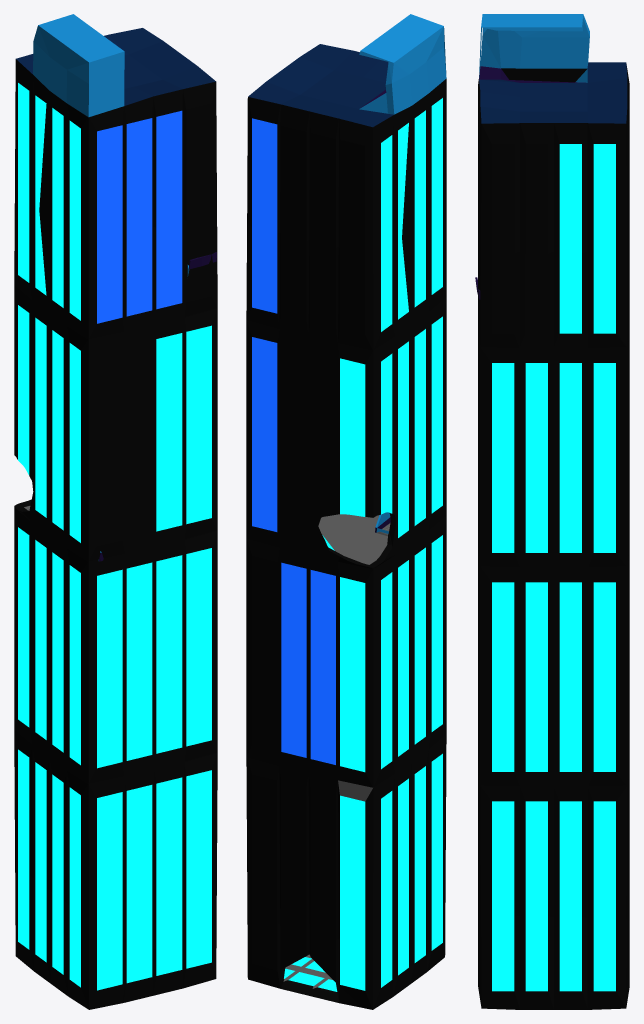
File: startingBuilding2.fbx
The picture shows the model from 3 angles, left to right: view 1: azimuth 30°, elevation 25°; view 2: azimuth 150°, elevation 25°; view 3: azimuth 270°, elevation 25°; orthographic projection.
Visible parts, largest first — view 1: Plane.005; view 2: Plane.005; view 3: Plane.005.
Boxes of the visible parts, x1=… form: Plane.005: x1=14, y1=14, x2=217, y2=1009; Plane.005: x1=246, y1=14, x2=446, y2=1009; Plane.005: x1=475, y1=14, x2=629, y2=1009.
Size of the model in its own units: 305 by 2085 by 310.
